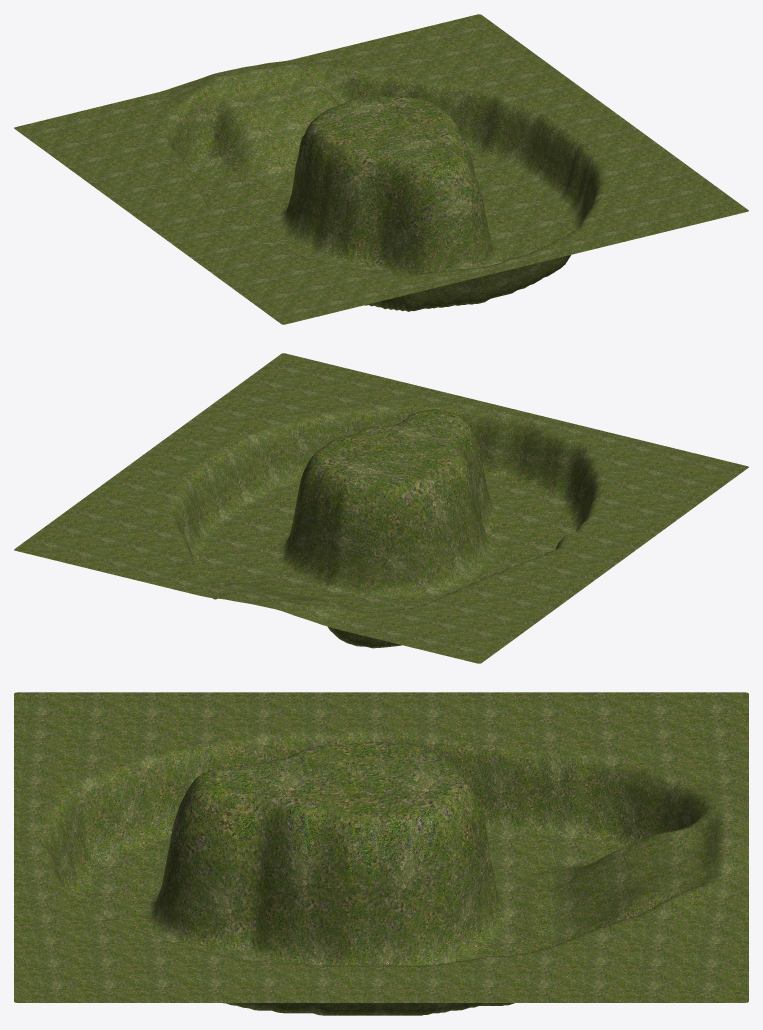
Rendered from terrainSurface.obj.
The picture shows the model from 3 angles, top to bottom: view 1: azimuth 30°, elevation 25°; view 2: azimuth 150°, elevation 25°; view 3: azimuth 270°, elevation 25°; orthographic projection. The views are drawn at different scales.
Parts seen in each view (by area): view 1: Terrain_Plane; view 2: Terrain_Plane; view 3: Terrain_Plane.
Boxes of the visible parts, x1,y1,x2,y2 form: Terrain_Plane: (14, 14, 748, 324); Terrain_Plane: (14, 353, 748, 663); Terrain_Plane: (14, 692, 748, 1015).
Size of the model in its own units: 29.75 by 5.9 by 29.75.
